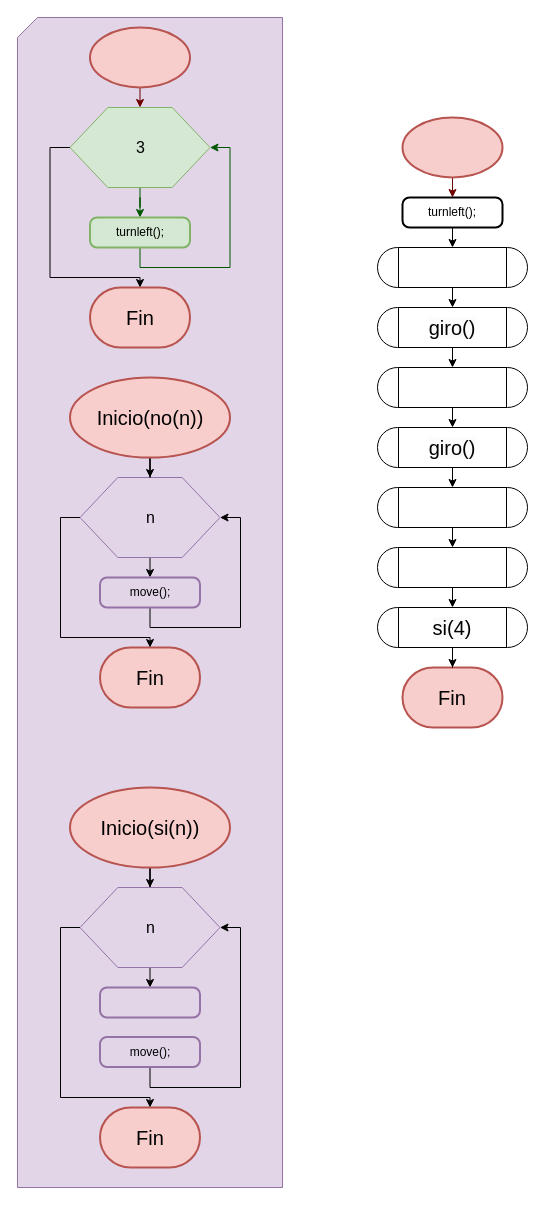
Some shapes in this 545 by 1205 pixel diagram are drawn without their labels. The box of each missing label's shape, as (x1, y1, x2, y2) in pixels:
giro(1): (376, 546, 528, 588)
Inicio: (401, 116, 503, 178)
Inicio(giro): (88, 26, 190, 88)
no(3): (376, 486, 528, 528)
no(4): (376, 366, 528, 408)
putbeeper();: (98, 986, 200, 1018)
si(5): (376, 246, 528, 288)
